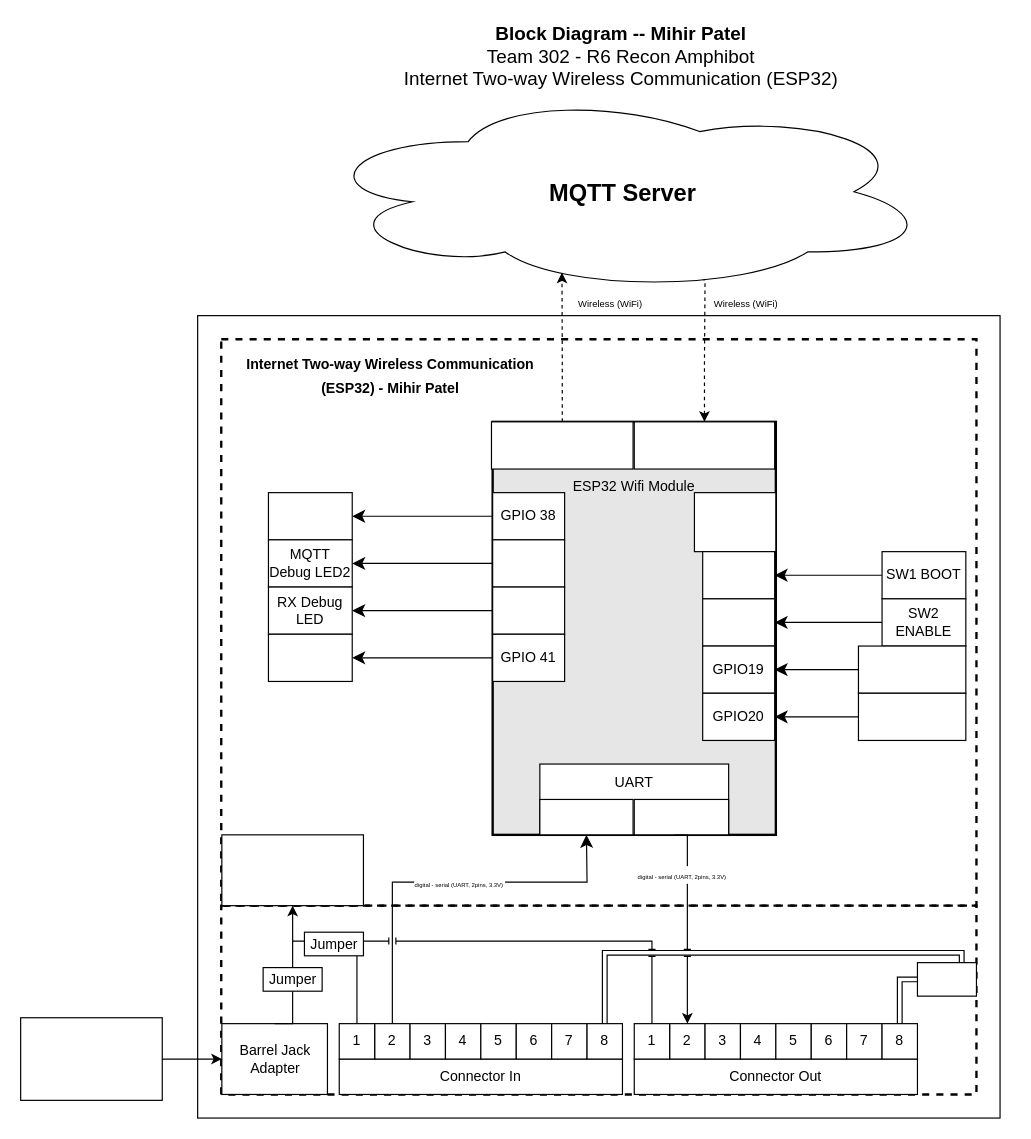
Some shapes in this 1031 by 1139 pixel diagram are drawn without their labels. Each missing label, with the centre of its shape:
"# WSU090-1300-R 9V 1.3A AC-DC Wall Power Supply" belongs at (90,1058).
"3.3V 1.5A Switching Power Supply # AP63203WU-7" belongs at (292,870).
"BOOT Pin" belongs at (738,574).
"Camera (ESP32-CAM / OV2640)" belongs at (734,521).
"EN Pin" belongs at (738,622).
"GND" belongs at (946,978).
"GPIO 39" belongs at (528,563).
"GPIO 40" belongs at (528,610).
"MQTT Debug LED1" belongs at (309,515).
"publish PUBLISH_TOPIC" belongs at (561,445).
"RX(GPIO18)" belongs at (586,816).
"subscribe SUBSCRIBE_TOPIC" belongs at (704,445).
"TX Debug LED" belongs at (309,657).
"TX(GPIO17)" belongs at (681,816).
"USB D+(Programming)" belongs at (911,716).
"USB D-(Programming)" belongs at (911,669).
